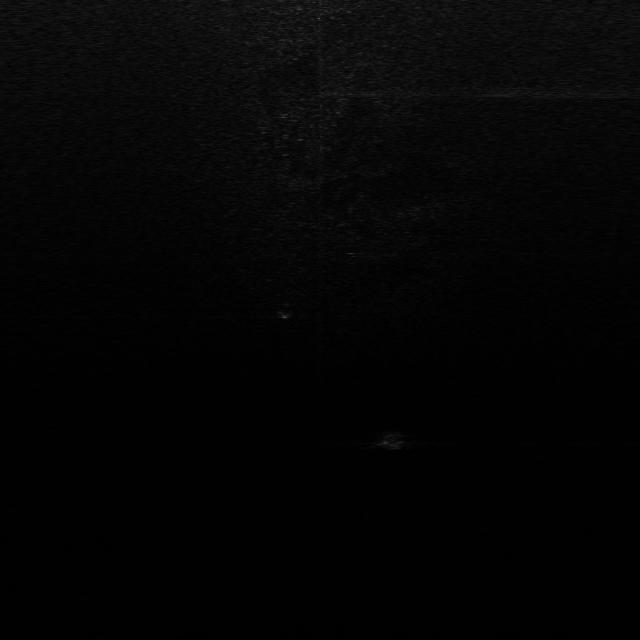ball: (377, 429, 409, 451)
circle cage: (272, 300, 297, 320)
